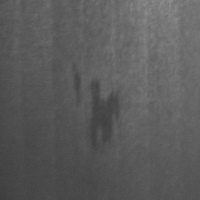inclusion: (85, 73, 124, 159), (63, 66, 90, 113)
